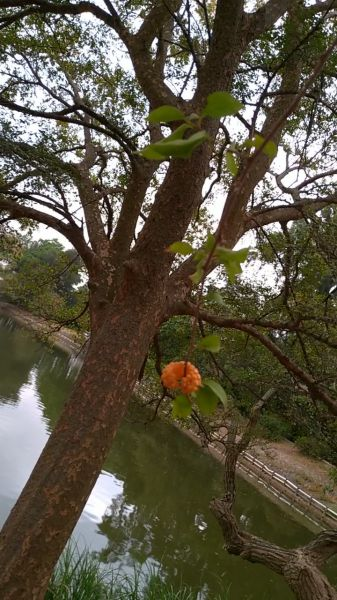eggs: (156, 352, 210, 401)
